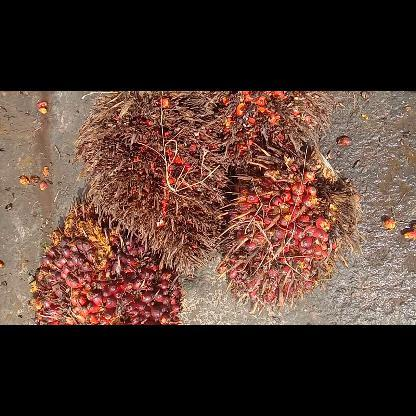TBS masak: (216, 143, 364, 315), (29, 194, 185, 324)
Terlalu masak: (72, 91, 228, 277), (215, 90, 337, 192)
